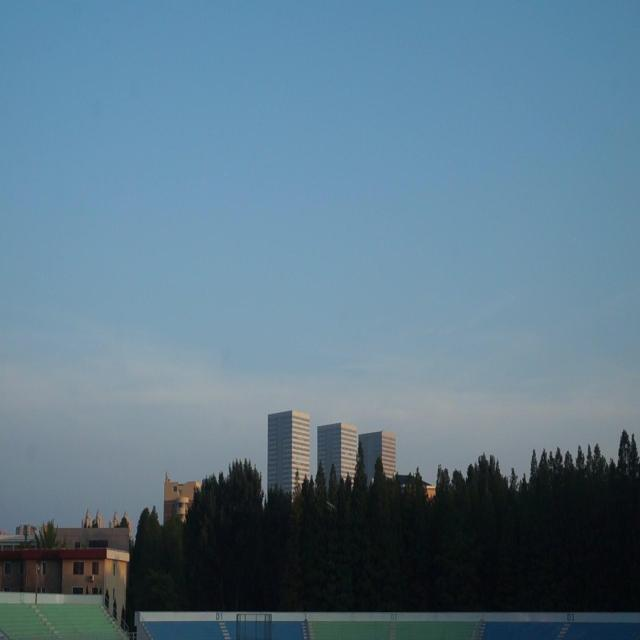drone: (324, 495, 337, 513)
